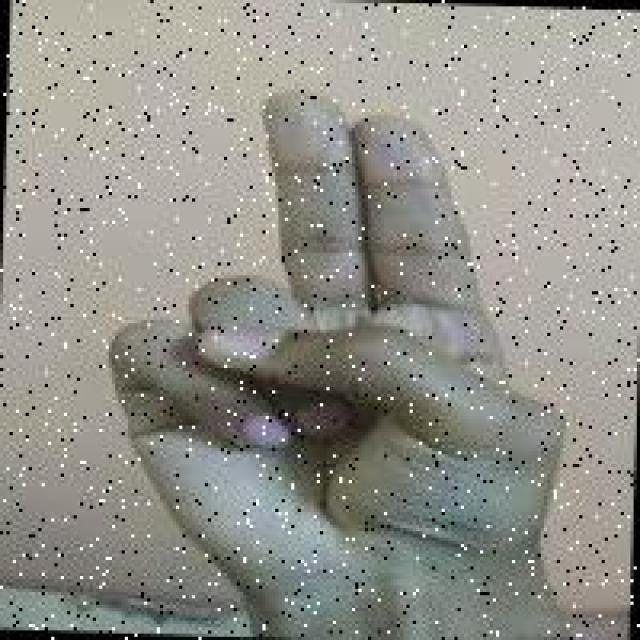U: (93, 75, 582, 562)
